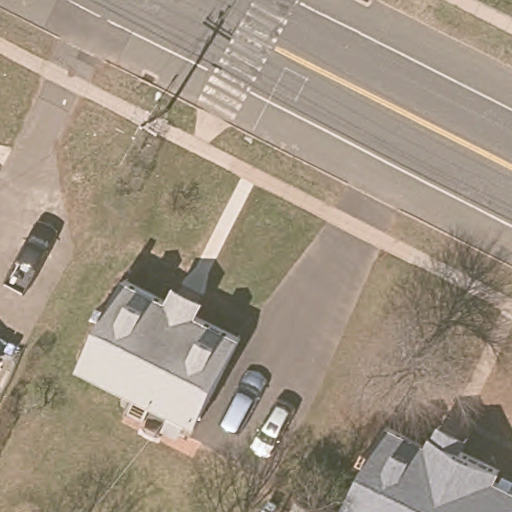DT: (131, 100, 174, 140)
